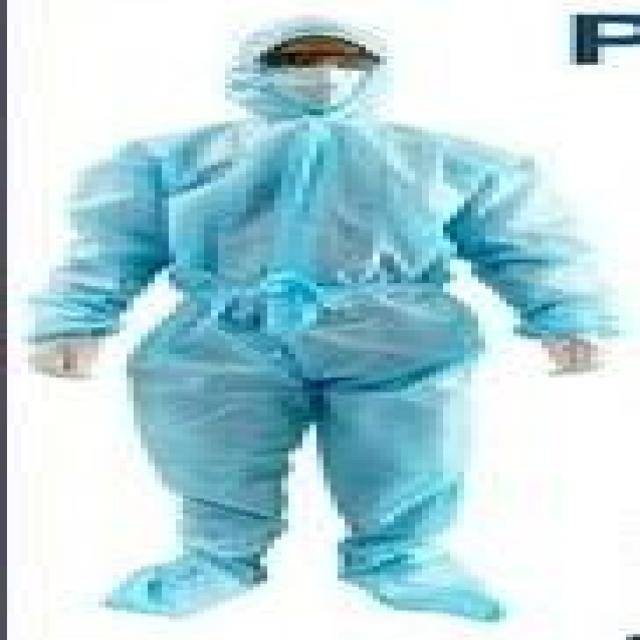Coverall: (28, 6, 626, 622)
Mask: (253, 62, 373, 103)
